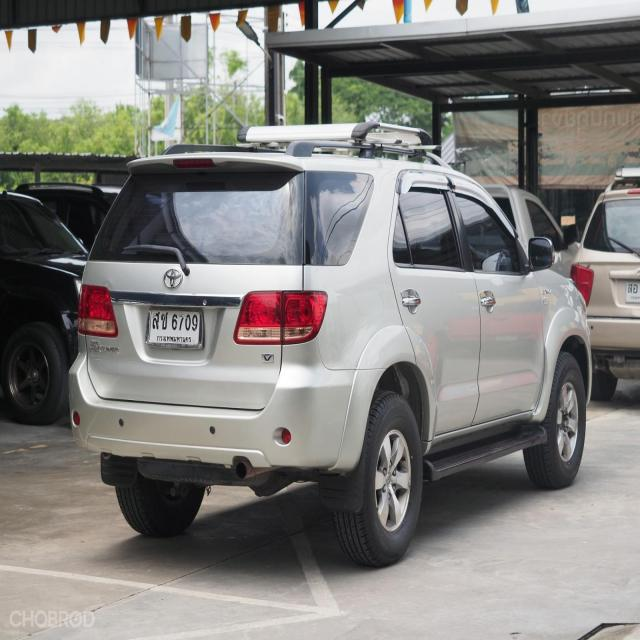license_plate: (143, 302, 205, 351), (625, 276, 640, 303)
